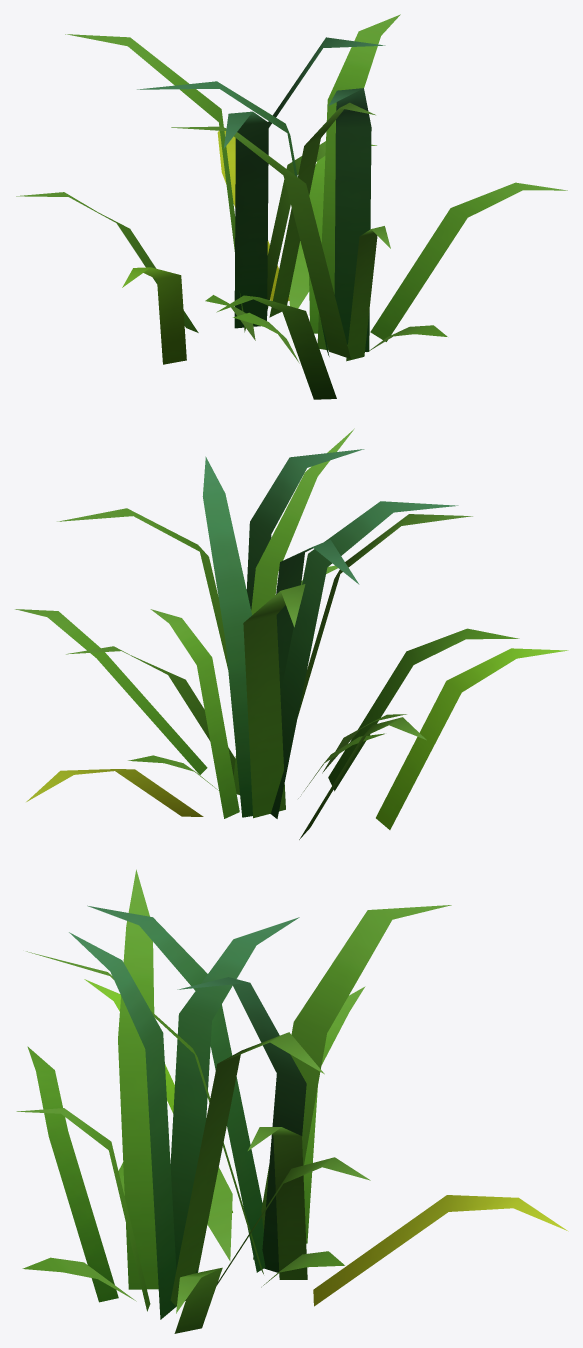
The model's file is SM_Generic_Plant_05.fbx.
3 views of the same model, one above another, from view 1: azimuth 30°, elevation 25°; view 2: azimuth 150°, elevation 25°; view 3: azimuth 270°, elevation 25° (orthographic). The views are drawn at different scales.
Parts seen in each view (by area): view 1: SM_Generic_Plant_05; view 2: SM_Generic_Plant_05; view 3: SM_Generic_Plant_05.
Boxes of the visible parts, x1=… form: SM_Generic_Plant_05: x1=16, y1=14, x2=567, y2=399; SM_Generic_Plant_05: x1=15, y1=428, x2=568, y2=839; SM_Generic_Plant_05: x1=16, y1=869, x2=568, y2=1333.
Bounding box in the file's own units: 3.07 × 1.88 × 2.6.
